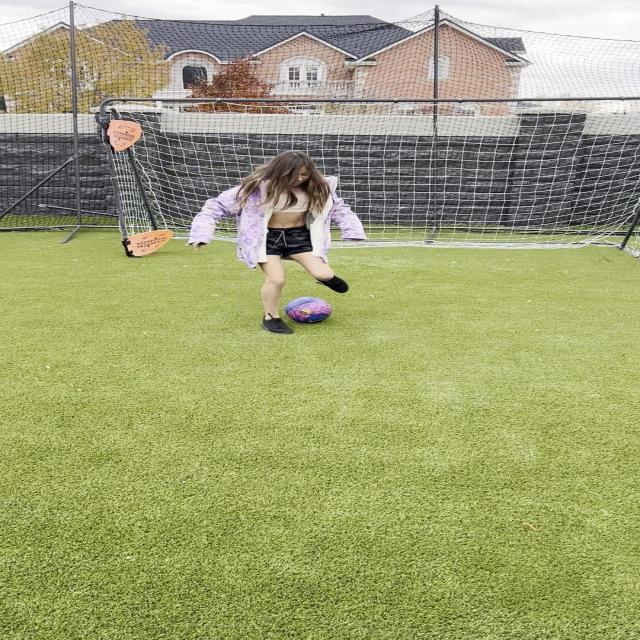Soccer Ball: (284, 296, 334, 324)
